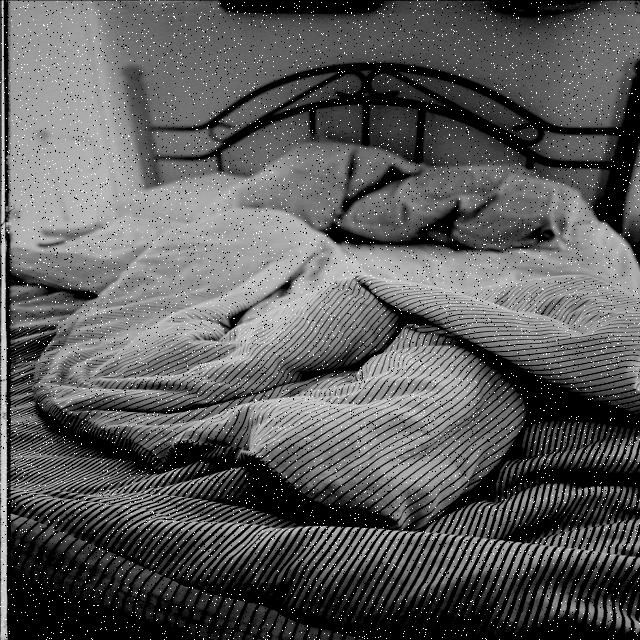bed: (3, 134, 640, 640)
